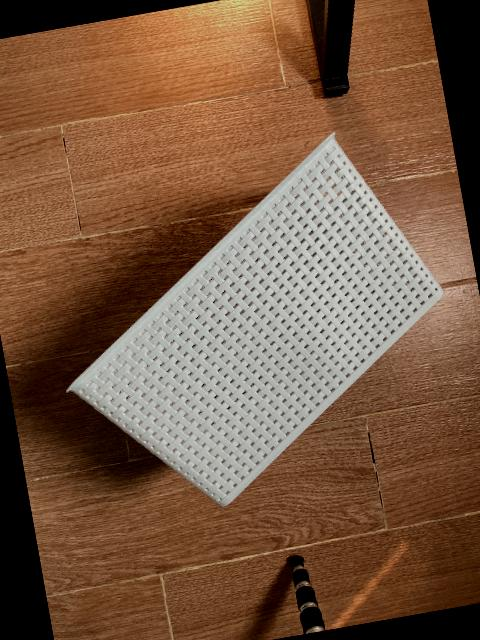cart: (61, 130, 441, 505)
